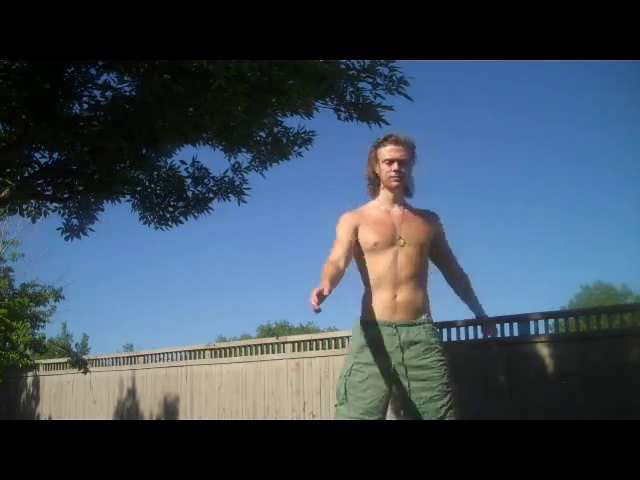person: (309, 135, 497, 420)
